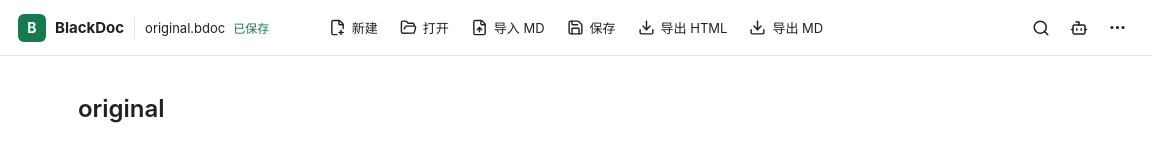
Test: desktop App lifecycle › chooses a Markdown path before generating and writing the document
Click the button "导出 MD" at [786, 28], box [740,10,832,44]
Wait 50 ms
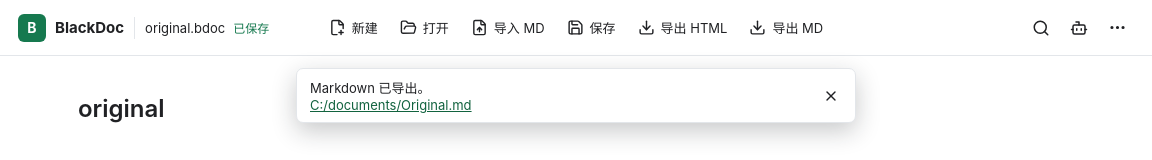
Expected: the message "Markdown 已导出。 C:/documents/Original.md" is shown, [296,68,856,123]
